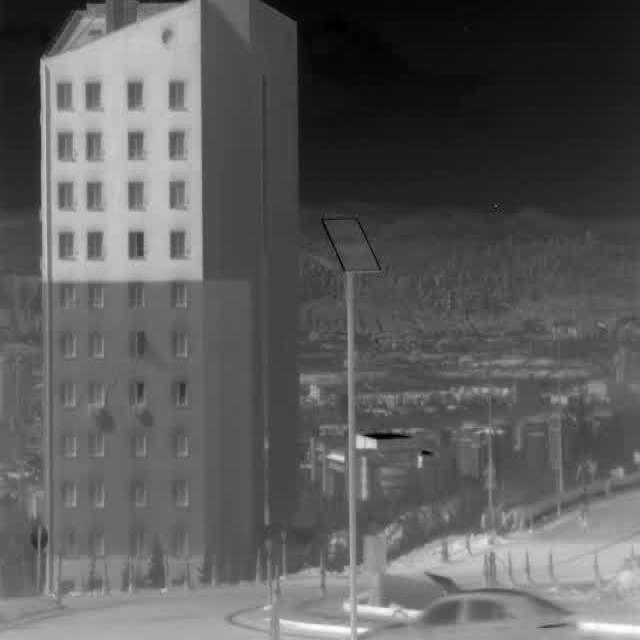Motorcycle: (575, 492, 596, 532)
